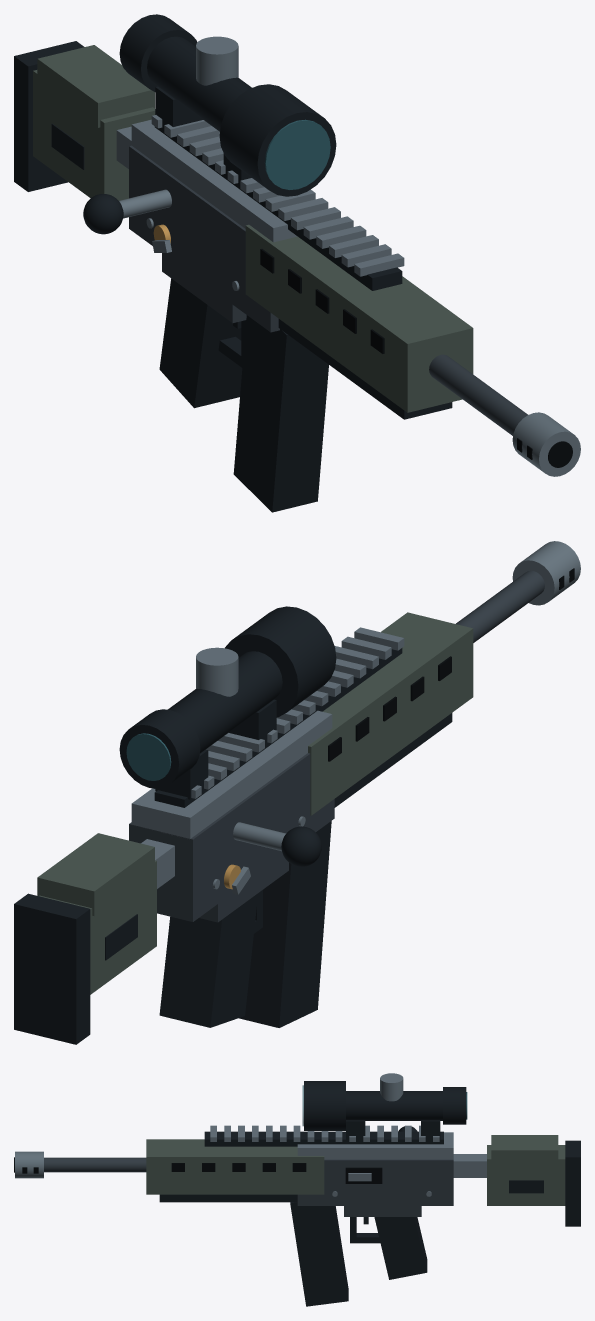
The model's file is FSA_WPN_DMR_001_Sentinel.glb.
3 views of the same model, one above another, from view 1: azimuth 30°, elevation 25°; view 2: azimuth 150°, elevation 25°; view 3: azimuth 270°, elevation 25° (orthographic). The views are drawn at different scales.
Parts seen in each view (by area): view 1: Handguard, MagazineBody, Receiver, GripCore, StockBody, ScopeObjective, StockCheek, UpperReceiver, ScopeTube, ButtPad, ScopeLens, Barrel (+17 smaller); view 2: Handguard, Receiver, MagazineBody, ButtPad, GripCore, UpperReceiver, ScopeObjective, StockCheek, ScopeTube, StockBody, ScopeEyepiece, Barrel (+14 smaller); view 3: Handguard, Receiver, MagazineBody, StockBody, ScopeTube, GripCore, UpperReceiver, RailBase, ScopeObjective, StockCheek, Barrel, ButtPad (+10 smaller).
Boxes of the visible parts, <box> form: Handguard: <box>245,224,473,412</box>; MagazineBody: <box>233,315,328,512</box>; Receiver: <box>129,145,279,332</box>; GripCore: <box>159,278,242,408</box>; StockBody: <box>33,70,155,200</box>; ScopeObjective: <box>219,84,336,196</box>; StockCheek: <box>37,45,154,127</box>; UpperReceiver: <box>131,119,297,242</box>; ScopeTube: <box>147,36,251,131</box>; ButtPad: <box>14,41,84,191</box>; ScopeLens: <box>264,119,330,189</box>; Barrel: <box>429,354,527,435</box>; Handguard: <box>308,612,473,815</box>; Receiver: <box>129,753,334,921</box>; MagazineBody: <box>239,821,331,1027</box>; ButtPad: <box>14,893,90,1044</box>; GripCore: <box>159,893,258,1027</box>; UpperReceiver: <box>131,710,332,839</box>; ScopeObjective: <box>225,606,336,717</box>; StockCheek: <box>37,833,154,915</box>; ScopeTube: <box>168,651,282,753</box>; StockBody: <box>39,860,156,994</box>; ScopeEyepiece: <box>119,709,200,788</box>; Barrel: <box>456,570,544,642</box>; Handguard: <box>146,1139,324,1194</box>; Receiver: <box>297,1159,453,1205</box>; MagazineBody: <box>290,1202,348,1306</box>; StockBody: <box>487,1145,565,1205</box>; ScopeTube: <box>346,1091,442,1120</box>; GripCore: <box>374,1217,427,1279</box>; UpperReceiver: <box>297,1132,453,1159</box>; RailBase: <box>204,1131,443,1146</box>; ScopeObjective: <box>304,1081,345,1130</box>; StockCheek: <box>491,1135,558,1163</box>; Barrel: <box>44,1157,146,1172</box>; ButtPad: <box>565,1140,580,1226</box>.
Size of the model in its own units: 0.178 by 0.4409 by 1.02.
